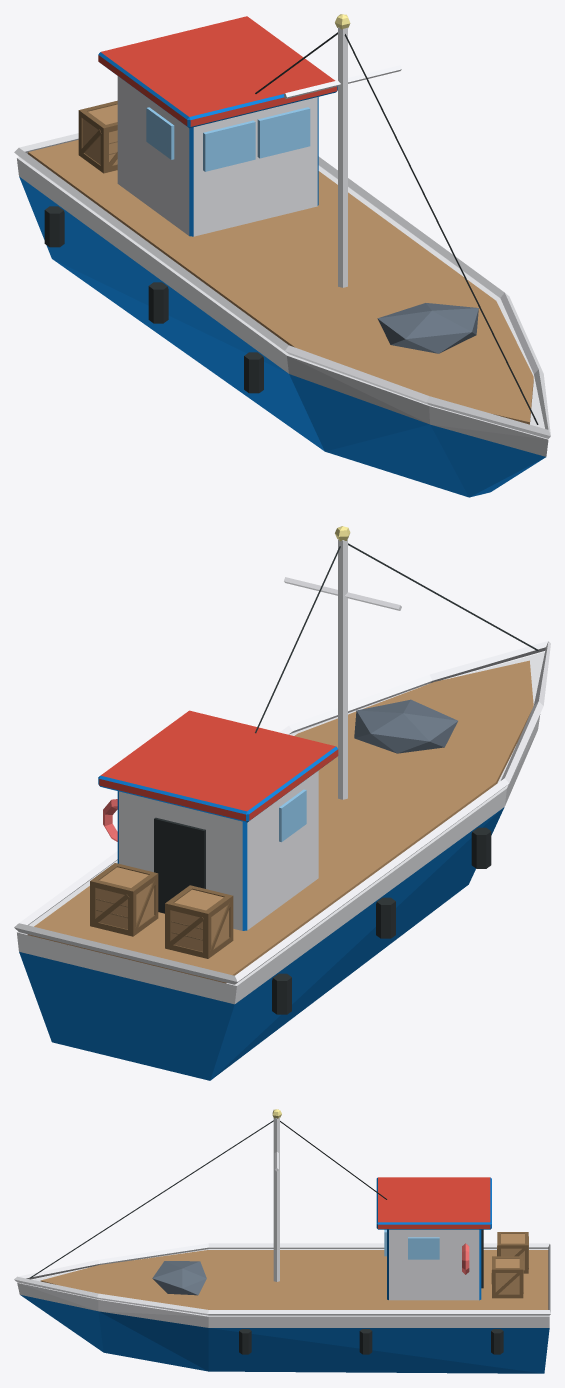
Rendered from fishingBoat.glb.
The picture shows the model from 3 angles, top to bottom: view 1: azimuth 30°, elevation 25°; view 2: azimuth 150°, elevation 25°; view 3: azimuth 270°, elevation 25°; orthographic projection. The views are drawn at different scales.
Visible parts, largest first — view 1: fishingBoat-m; view 2: fishingBoat-m; view 3: fishingBoat-m.
Boxes of the visible parts, left/top/right/bottom form: fishingBoat-m: left=14, top=14, right=550, bottom=497; fishingBoat-m: left=14, top=526, right=550, bottom=1080; fishingBoat-m: left=14, top=1109, right=550, bottom=1373.
Size of the model in its own units: 3.37 by 5.05 by 10.24.
